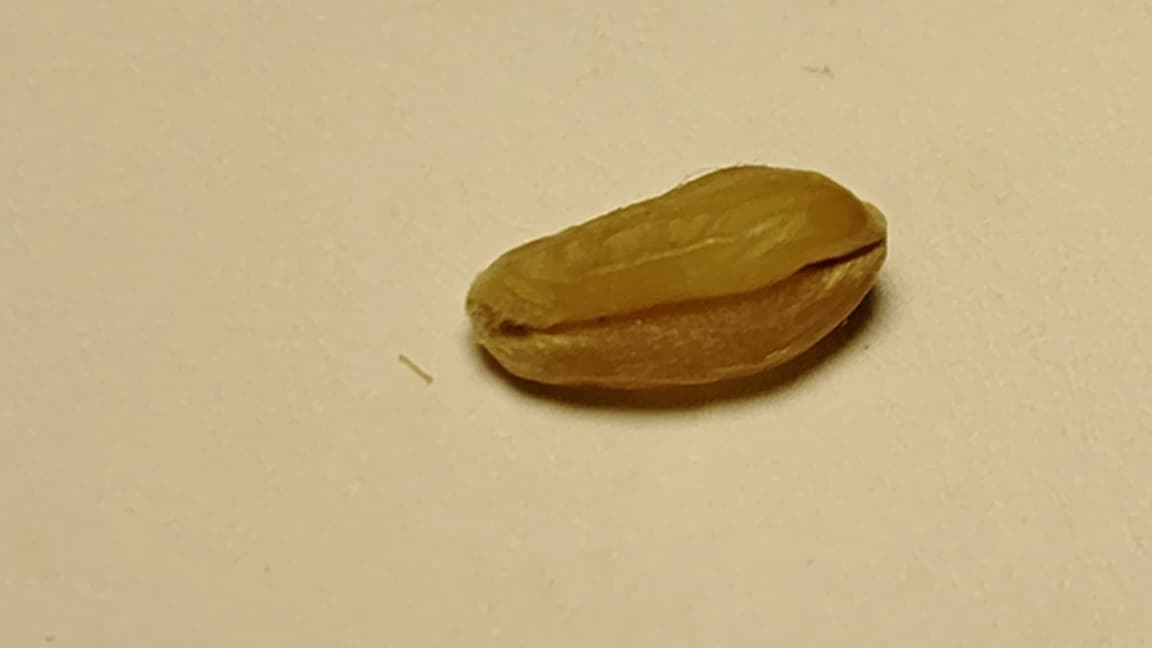healthy: (466, 165, 886, 382)
